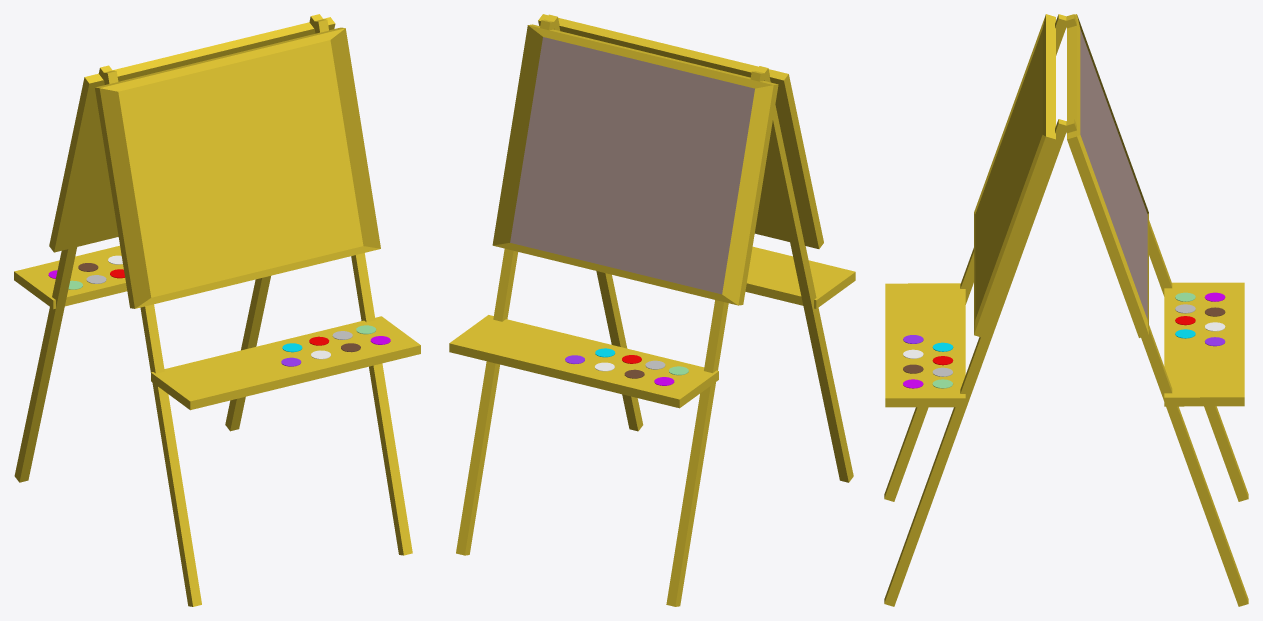
Rendered from a092d765-621a-4059-b53b-b4a8d3f1aed8.glb.
The picture shows the model from 3 angles, left to right: view 1: azimuth 30°, elevation 25°; view 2: azimuth 150°, elevation 25°; view 3: azimuth 270°, elevation 25°; orthographic projection. The views are drawn at different scales.
Visible parts, largest first — view 1: Box017, Box015, Box013, Box012, Box011, Box016, Box014, Box010; view 2: Box013, Box014, Box017, Box012, Box016, Box010, Box015, Box011; view 3: Box017, Box013, Box015, Box014, Box011, Box010, Box016, Box012.
Part boxes in pixels (x1,y1,x2,y2): Box017: (95,27,380,308); Box015: (151,316,420,410); Box013: (49,17,335,252); Box012: (103,70,201,606); Box011: (313,19,412,555); Box016: (14,65,112,482); Box014: (14,245,127,309); Box010: (225,14,322,431); Box013: (492,24,778,305); Box014: (449,315,718,408); Box017: (538,14,823,248); Box012: (756,66,853,482); Box016: (666,71,764,606); Box010: (456,19,554,555); Box015: (745,246,855,308); Box011: (545,14,643,431); Box017: (974,14,1055,337); Box013: (1067,14,1148,337); Box015: (885,283,965,407); Box014: (1164,282,1244,406); Box011: (884,119,1067,606); Box010: (1064,119,1248,606); Box016: (1065,14,1248,501); Box012: (884,14,1068,501).
Bounding box in the file's own units: 203408 × 374453 × 255780.
